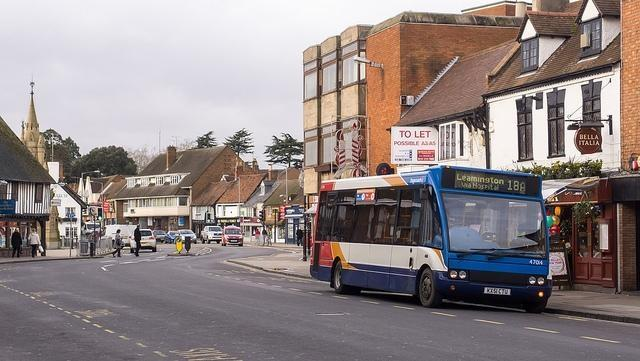bus: (307, 165, 551, 314)
car: (128, 228, 158, 254), (220, 226, 244, 246), (153, 229, 171, 244), (178, 229, 198, 242), (82, 222, 101, 235), (167, 231, 180, 241)
truck: (103, 225, 137, 244), (200, 226, 223, 244)
